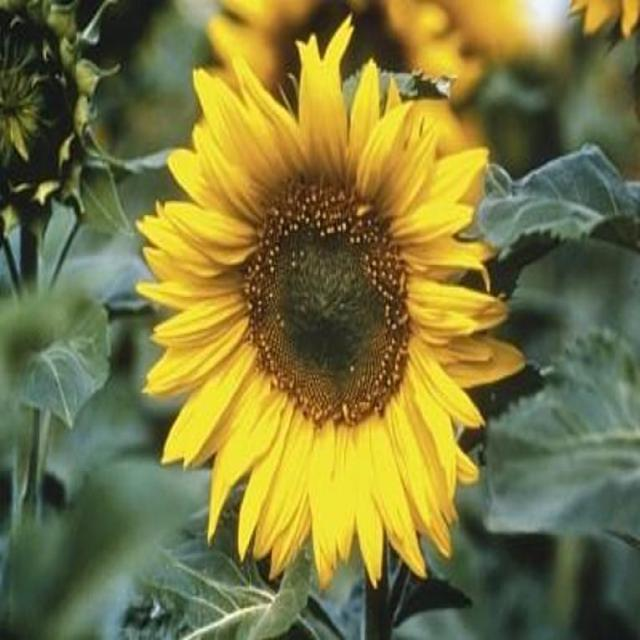sunflower: (128, 9, 533, 593), (202, 1, 489, 116), (564, 0, 640, 48)
